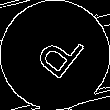P_SW: (25, 24, 85, 86)
